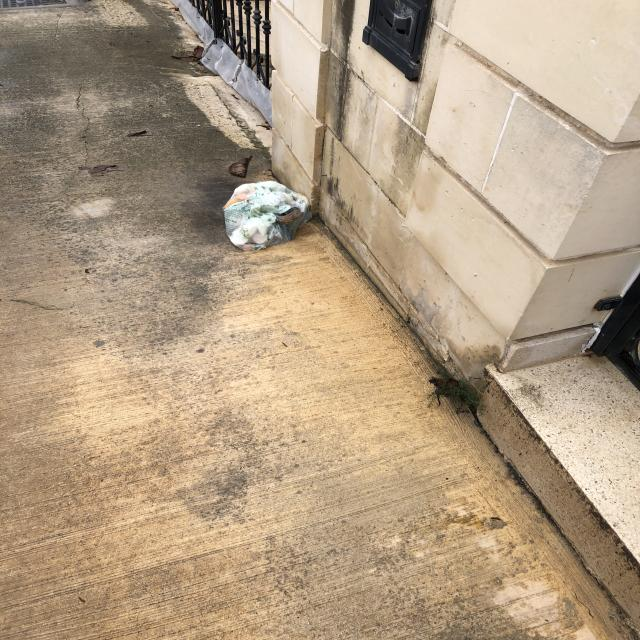Organic Waste -White Bag-: (223, 177, 314, 253)
